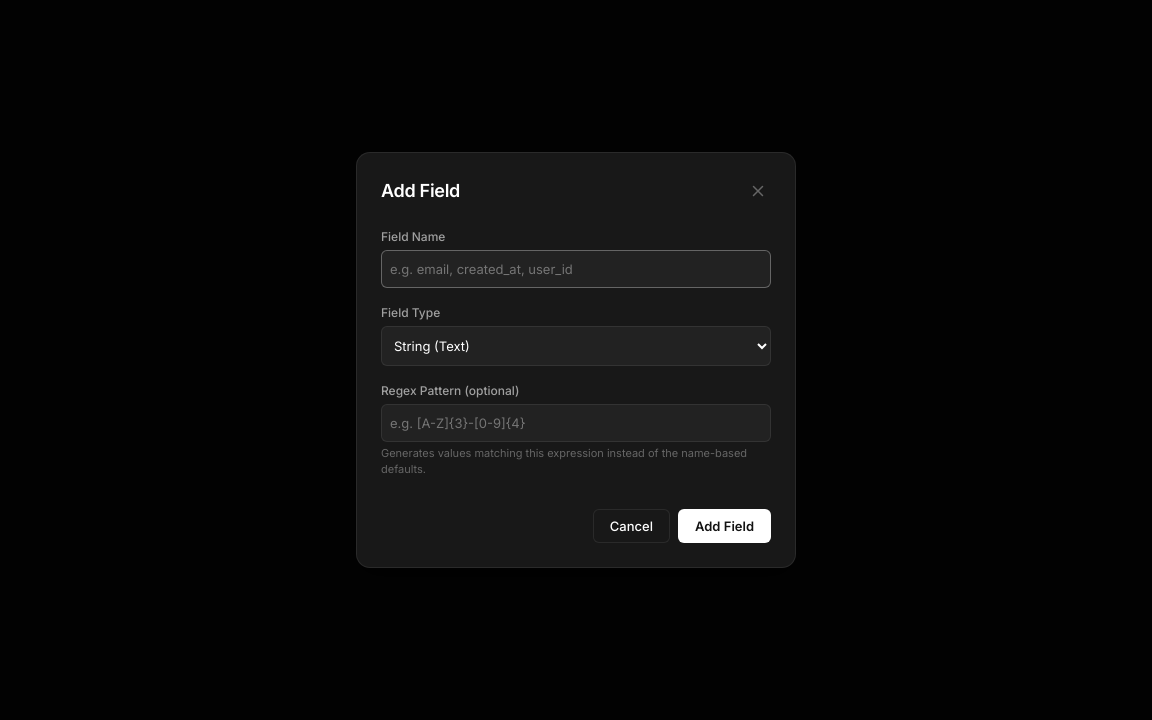
Test: FieldModal — validation › rejects a field name that duplicates an existing field on the same entity
Step 1. Type "email" into the field labelled "Field Name" → (576, 269), box [381,250,771,288]
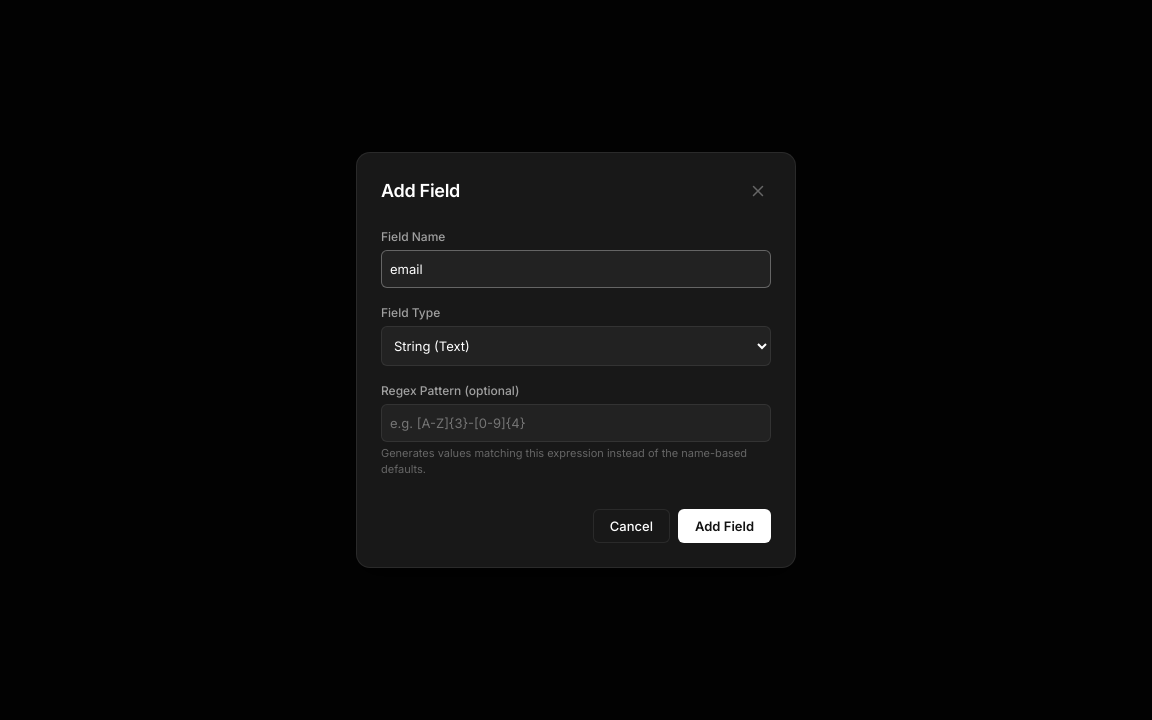
Step 2. Click the button "Add Field" → (724, 526), box [678,509,771,543]
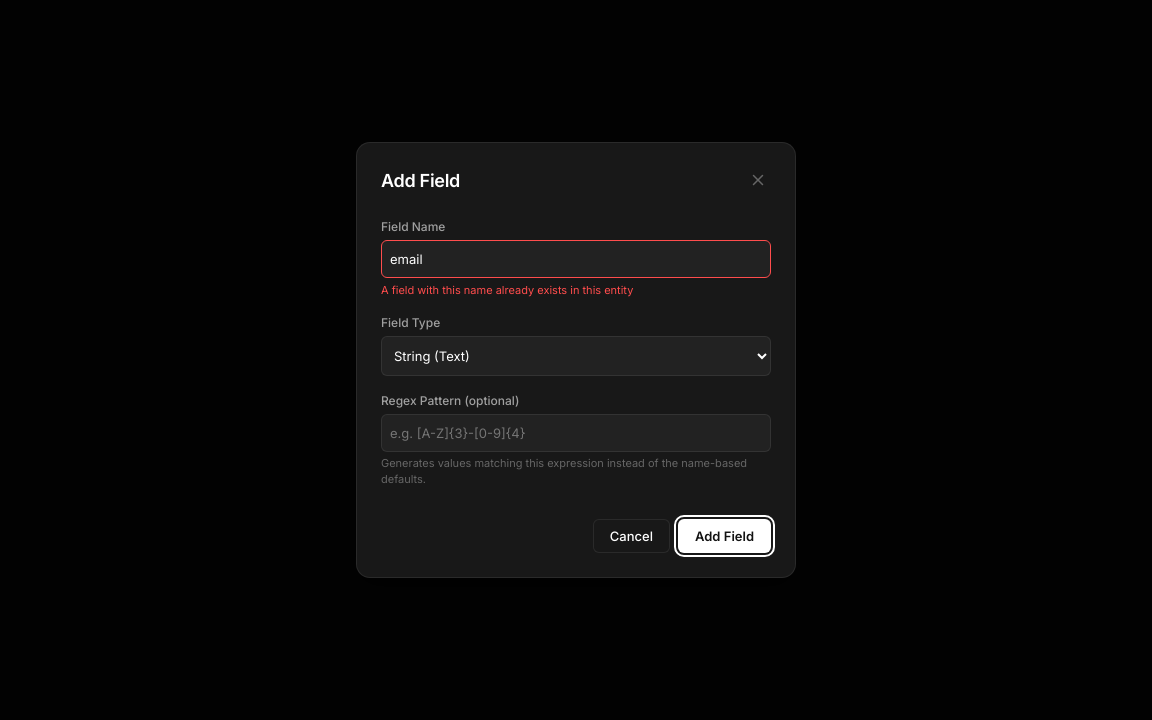
Expected: the text "A field with this name already exists in this entity" is shown, [381,283,633,297]
